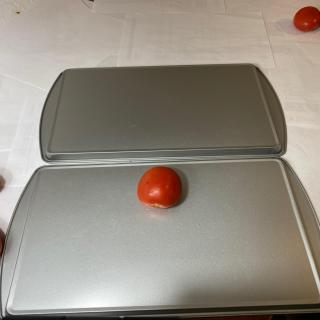Tomato: (137, 166, 182, 209), (293, 6, 320, 32)
